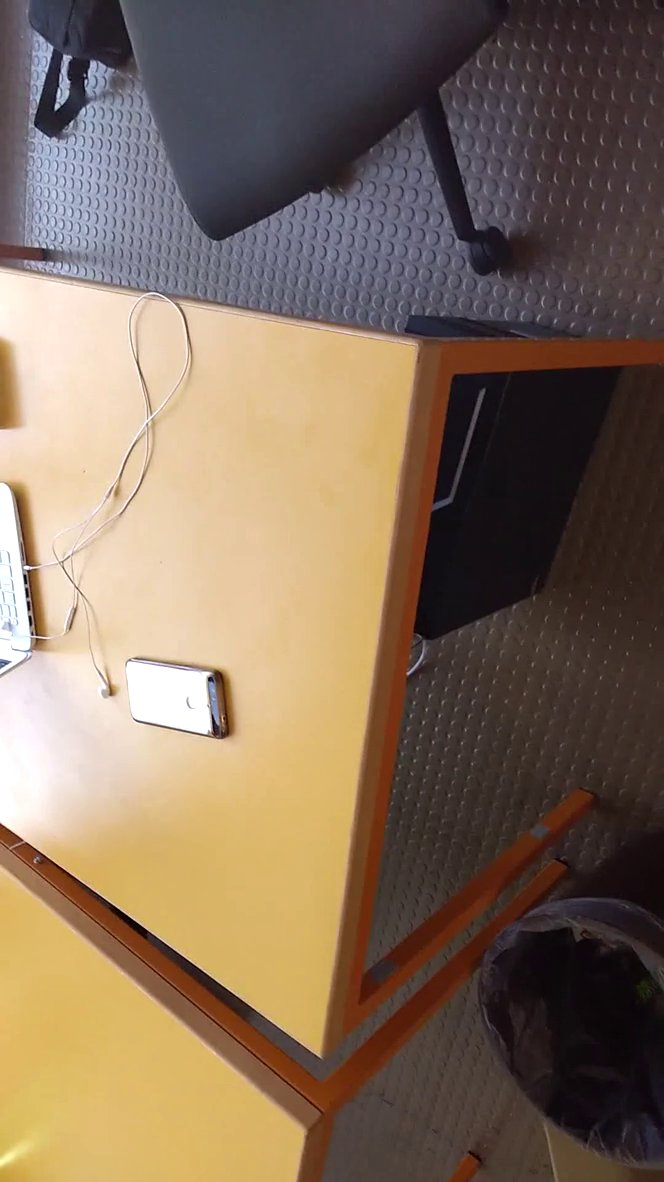phone: (121, 633, 252, 748)
